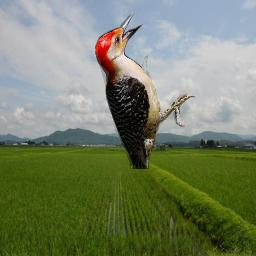Woodpecker: (95, 13, 198, 169)
